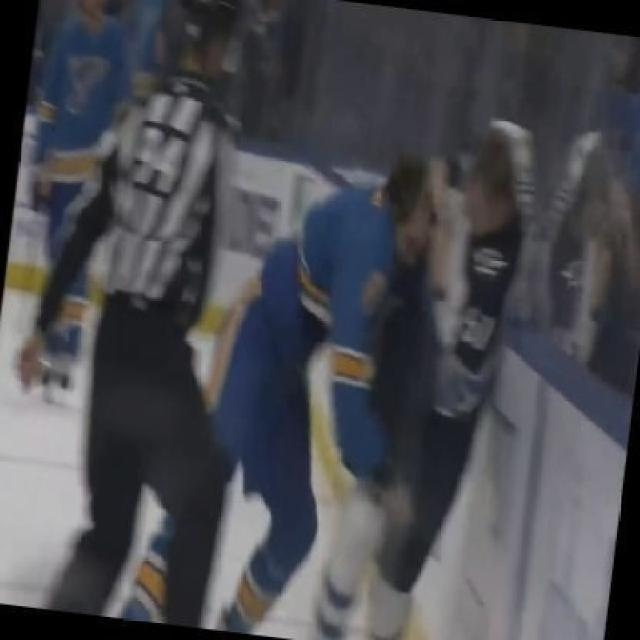fight: (122, 108, 546, 637)
non-fight: (19, 14, 237, 640)
